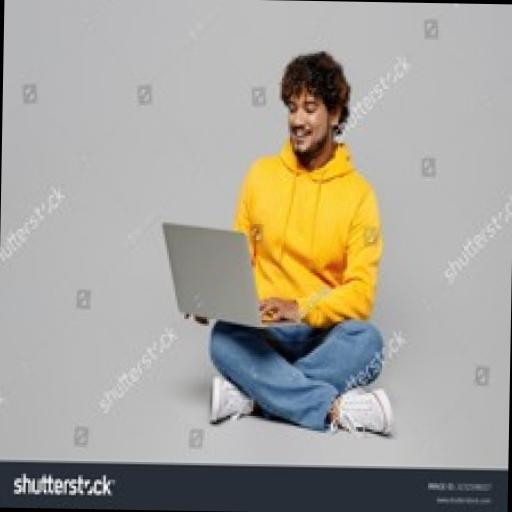human: (166, 42, 429, 441)
